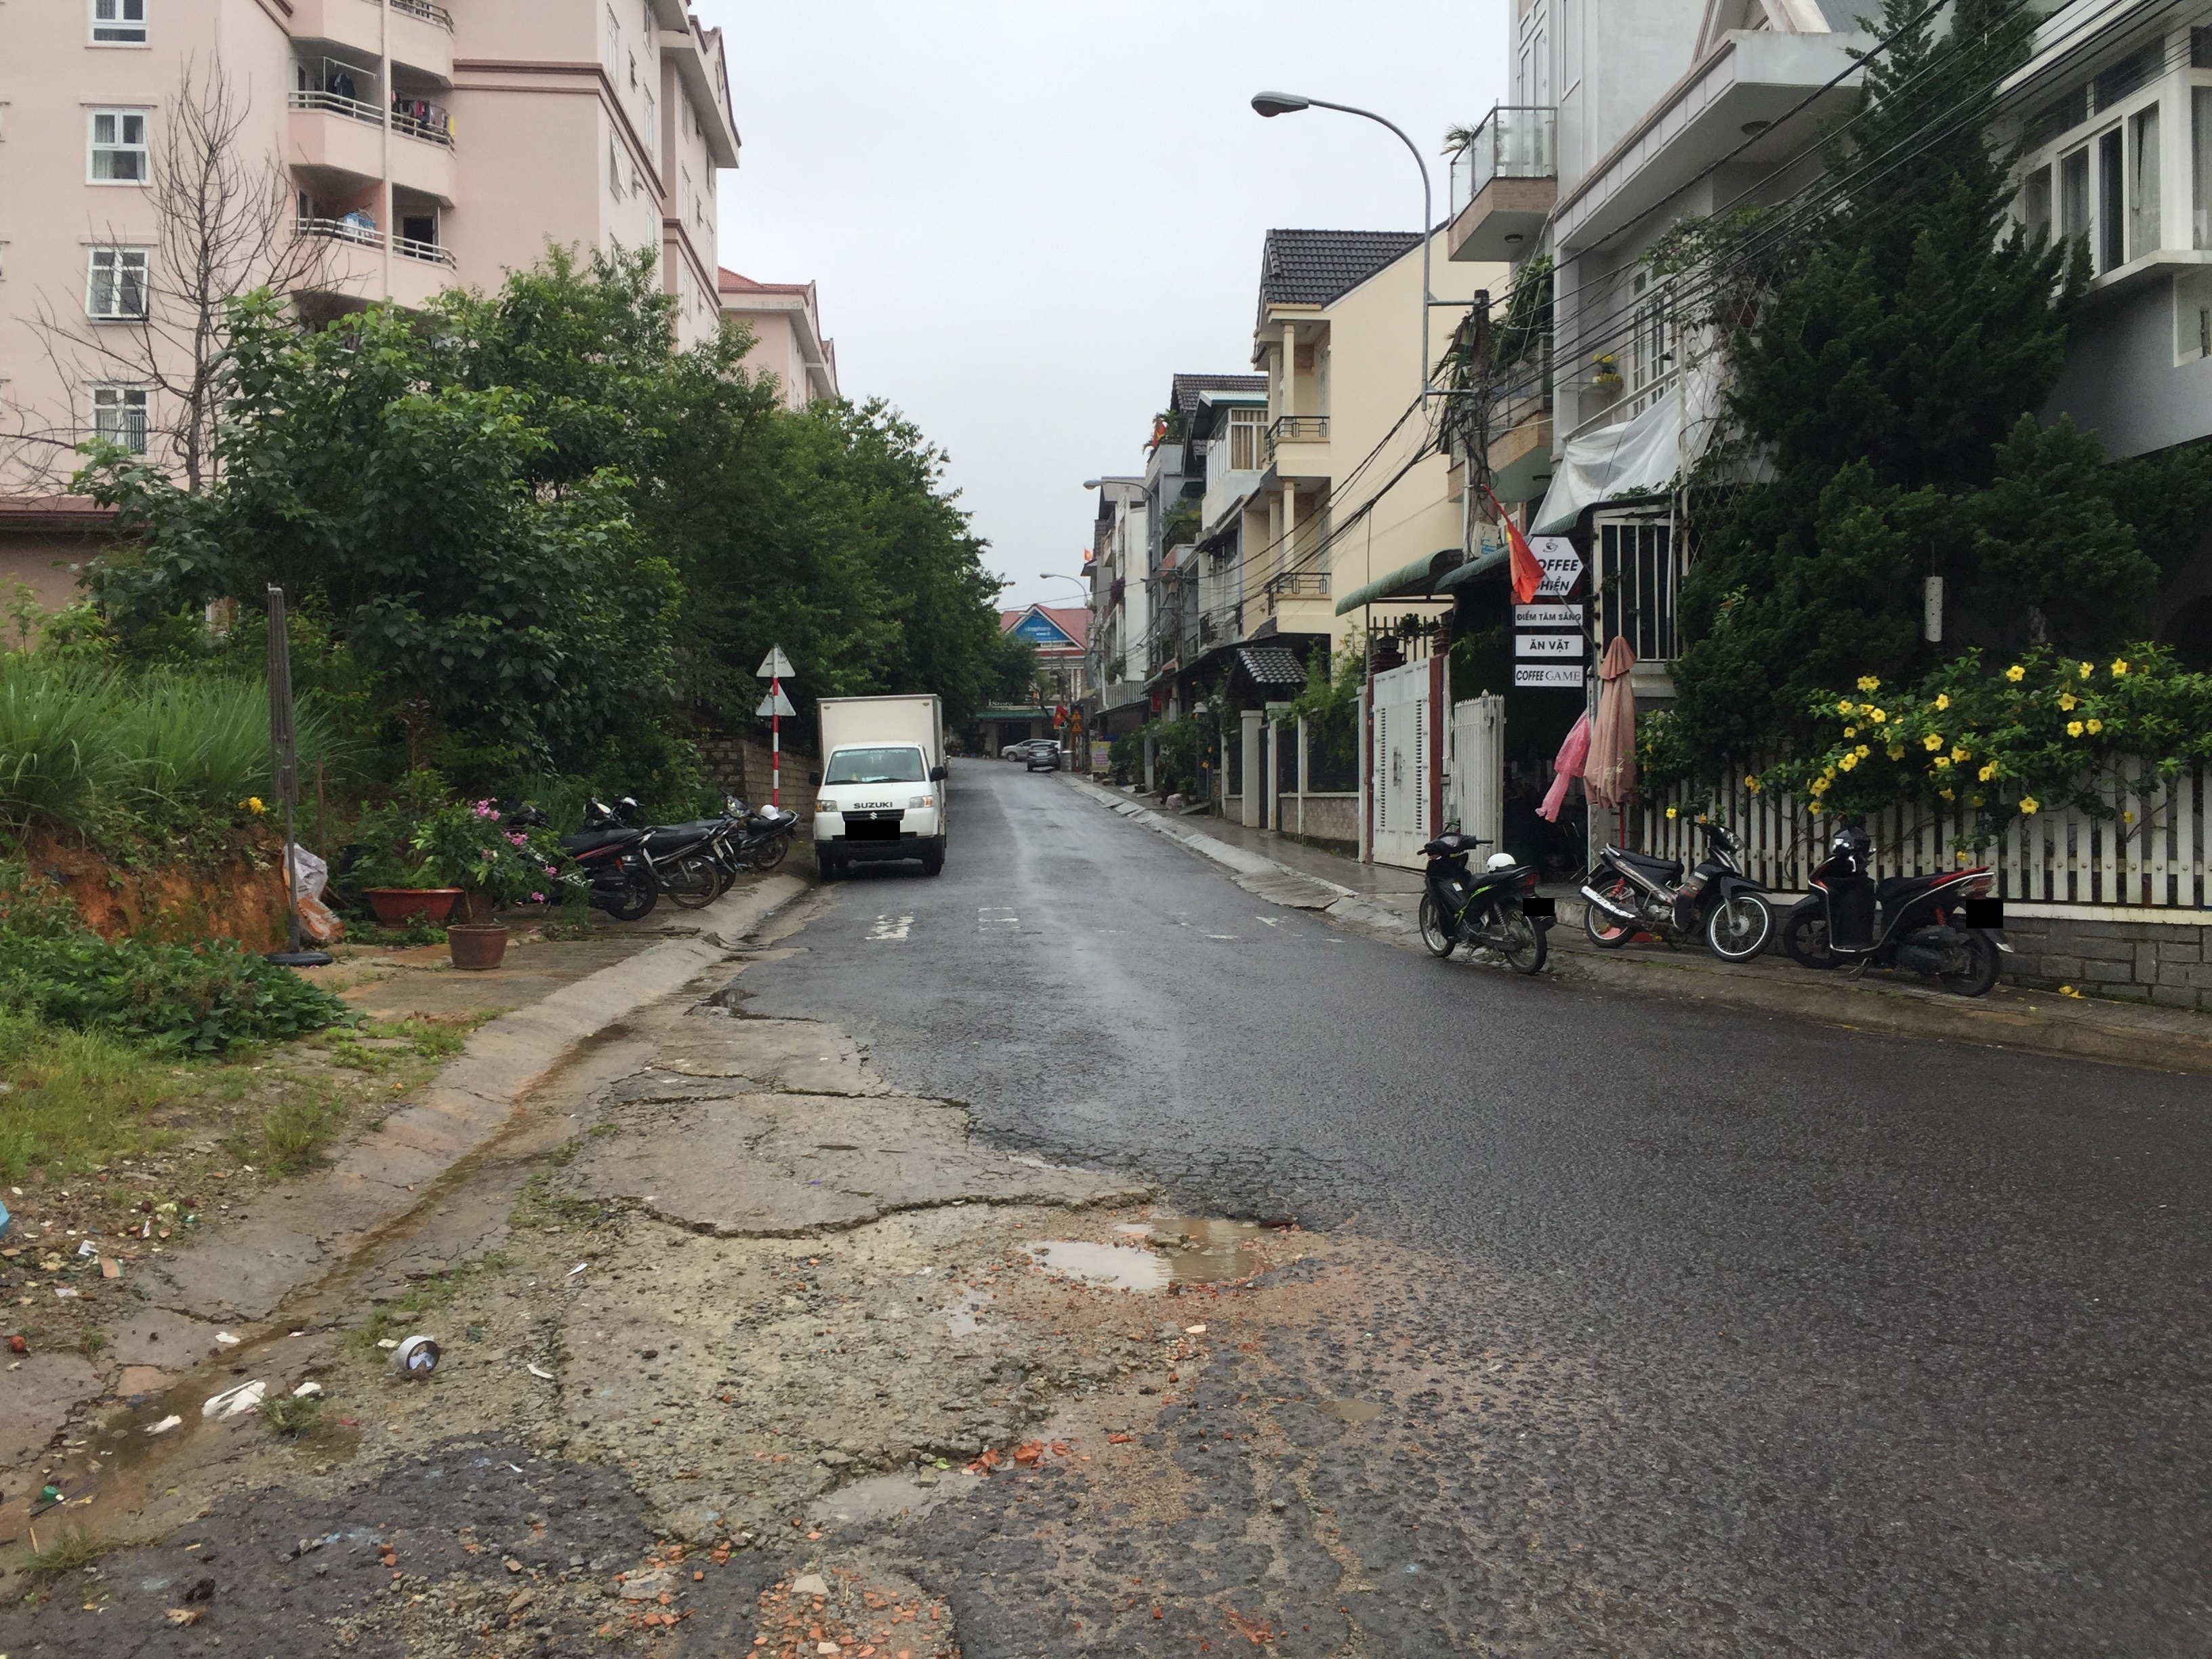hole: (745, 1547, 1003, 1659), (1014, 1192, 1289, 1291), (798, 1434, 1001, 1537), (1001, 1145, 1158, 1185)
